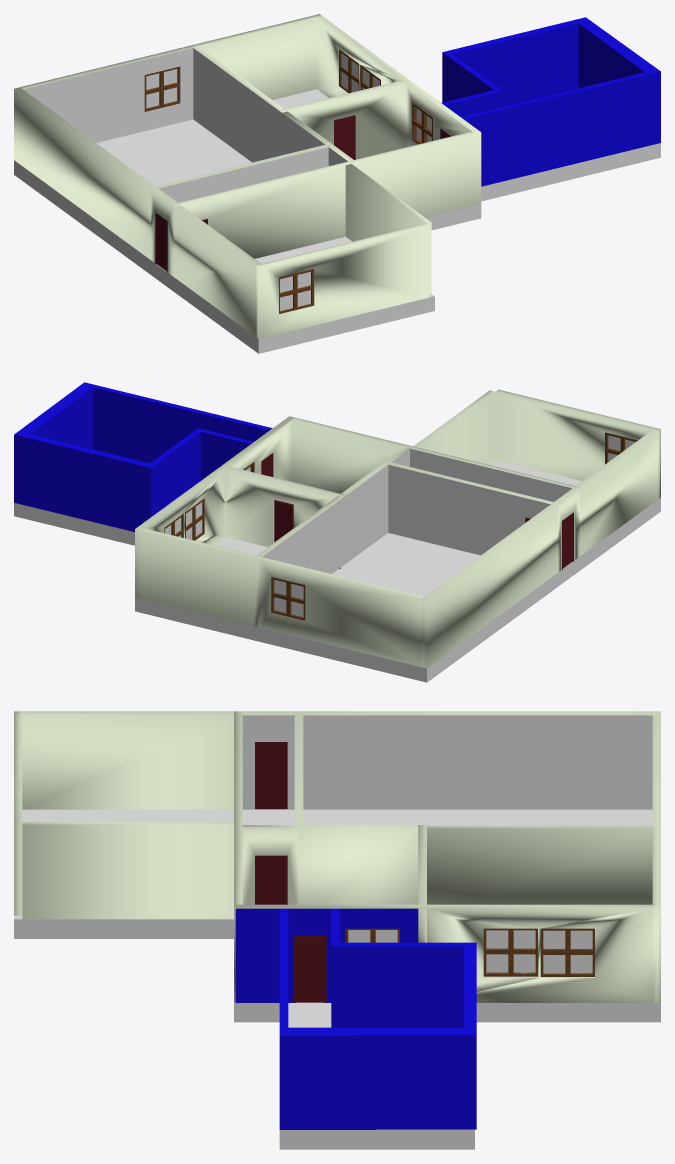
File: Cuarto1.fbx
3 views of the same model, one above another, from view 1: azimuth 30°, elevation 25°; view 2: azimuth 150°, elevation 25°; view 3: azimuth 270°, elevation 25° (orthographic). The views are drawn at different scales.
Visible parts, largest first — view 1: Paredes, Baño, Comedor, Piso.002, Corredor, Piso.001, Piso, Ventana.004, Puerta_LowPoly.009, Ventana.002, Vidrios.004, Vidrios.002 (+2 smaller); view 2: Paredes, Baño, Comedor, Piso.002, Corredor, Piso, Piso.001, Ventana.004, Puerta_LowPoly.009, Vidrios.004, Puerta_LowPoly.011; view 3: Paredes, Baño, Comedor, Piso.002, Piso.001, Piso, Corredor, Puerta_LowPoly.010, Puerta_LowPoly.011, Puerta_LowPoly.013, Vidrios.003, Vidrios (+2 smaller).
Part boxes in pixels (left/top/right/bottom): Paredes: left=14, top=14, right=481, bottom=338; Baño: left=441, top=17, right=660, bottom=186; Comedor: left=23, top=48, right=324, bottom=162; Piso.002: left=14, top=119, right=434, bottom=353; Corredor: left=159, top=147, right=347, bottom=202; Piso.001: left=481, top=143, right=660, bottom=201; Piso: left=272, top=89, right=481, bottom=230; Ventana.004: left=144, top=66, right=180, bottom=111; Puerta_LowPoly.009: left=335, top=117, right=353, bottom=159; Ventana.002: left=279, top=269, right=313, bottom=313; Vidrios.004: left=146, top=69, right=177, bottom=108; Vidrios.002: left=280, top=271, right=310, bottom=311; Paredes: left=135, top=389, right=660, bottom=668; Baño: left=14, top=382, right=272, bottom=531; Comedor: left=262, top=464, right=550, bottom=573; Piso.002: left=259, top=460, right=660, bottom=682; Corredor: left=391, top=448, right=572, bottom=501; Piso: left=135, top=536, right=267, bottom=641; Piso.001: left=14, top=503, right=134, bottom=545; Ventana.004: left=271, top=577, right=305, bottom=620; Puerta_LowPoly.009: left=275, top=501, right=293, bottom=541; Vidrios.004: left=274, top=579, right=303, bottom=616; Puerta_LowPoly.011: left=563, top=515, right=572, bottom=568; Paredes: left=14, top=711, right=660, bottom=1002; Baño: left=235, top=908, right=476, bottom=1129; Comedor: left=303, top=715, right=652, bottom=809; Piso.002: left=14, top=809, right=652, bottom=938; Piso.001: left=279, top=1003, right=474, bottom=1149; Piso: left=234, top=1002, right=660, bottom=1022; Corredor: left=242, top=715, right=294, bottom=809; Puerta_LowPoly.010: left=296, top=937, right=323, bottom=1002; Puerta_LowPoly.011: left=257, top=744, right=284, bottom=809; Puerta_LowPoly.013: left=257, top=857, right=285, bottom=904; Vidrios.003: left=486, top=930, right=535, bottom=972; Vidrios: left=543, top=930, right=592, bottom=973.
Size of the model in its own units: 34290 by 5617 by 28913.
12 materials, 1 textured.
